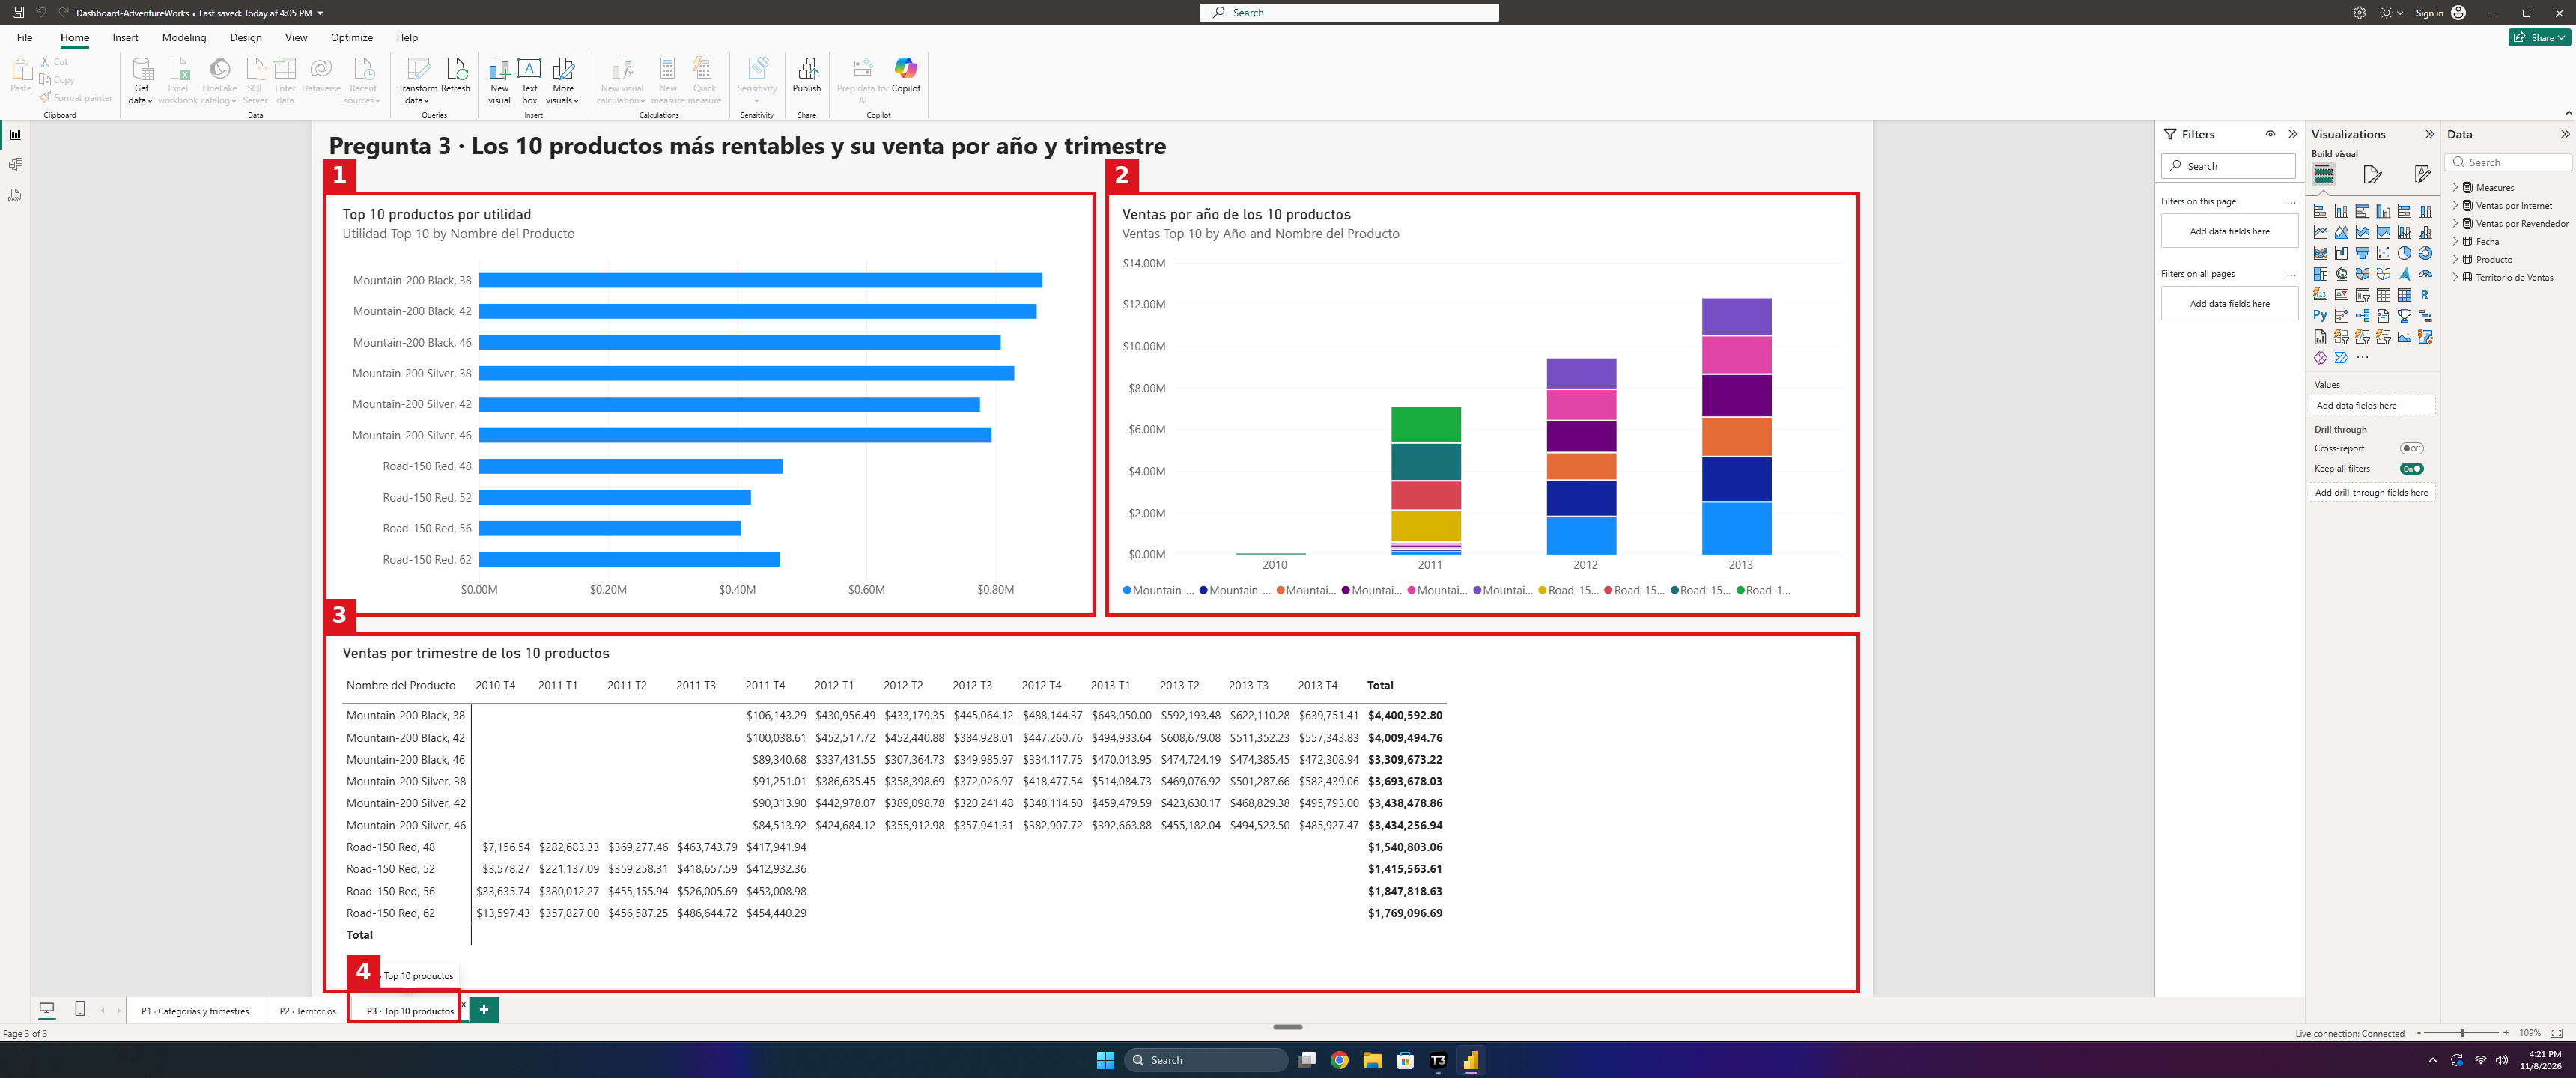

What the dashboard file says about the page in this screenshot:
{"tool":"powerbi","page":{"name":"P3 · Top 10 productos","canvas":[1920,1080],"ordinal":2},"visuals":[{"type":"textbox","box":[20,10,1880,70],"z":0},{"type":"clusteredBarChart","title":"Top 10 productos por utilidad","fields":{"Category":["Producto.Nombre del Producto"],"Y":["Measures.Utilidad Top 10"]},"box":[20,90,940,520],"z":1},{"type":"columnChart","title":"Ventas por año de los 10 productos","fields":{"Category":["Fecha.Año"],"Series":["Producto.Nombre del Producto"],"Y":["Measures.Ventas Top 10"]},"box":[980,90,920,520],"z":2},{"type":"pivotTable","title":"Ventas por trimestre de los 10 productos","fields":{"Rows":["Producto.Nombre del Producto"],"Columns":["Fecha.Trimestre"],"Values":["Measures.Ventas Top 10"]},"box":[20,630,1880,440],"z":3}]}

Visuals, with their boxes on the page's 1920x1080 design canvas (x1, y1, x2, y2). These are canvas units, not pixel positions in the 2576x1078 screenshot, which may show the page scaled, cropped or inside an application window:
textbox: (x1=20, y1=10, x2=1900, y2=80)
"Top 10 productos por utilidad" clusteredBarChart: (x1=20, y1=90, x2=960, y2=610)
"Ventas por año de los 10 productos" columnChart: (x1=980, y1=90, x2=1900, y2=610)
"Ventas por trimestre de los 10 productos" pivotTable: (x1=20, y1=630, x2=1900, y2=1070)
